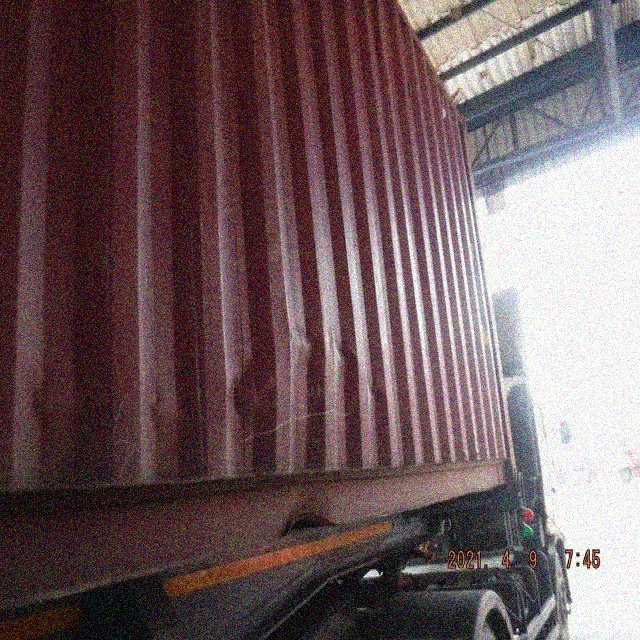Dent: (221, 312, 394, 430), (29, 370, 82, 425), (148, 390, 187, 433)
